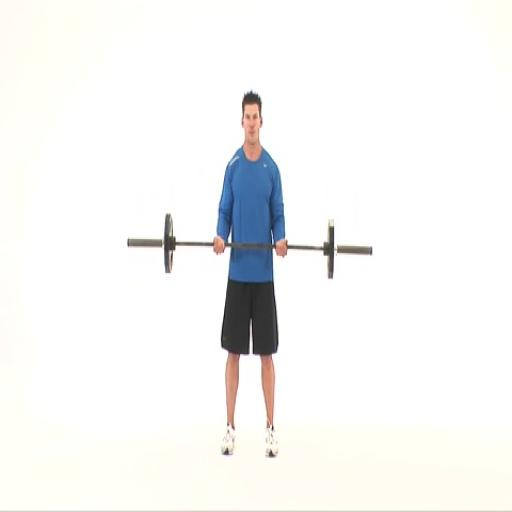exercise: (210, 88, 289, 461)
